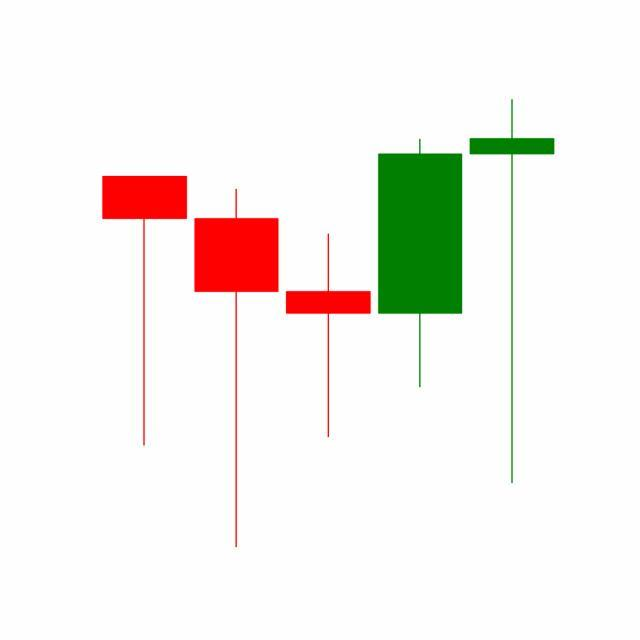Spinning Top: (466, 96, 559, 489)
